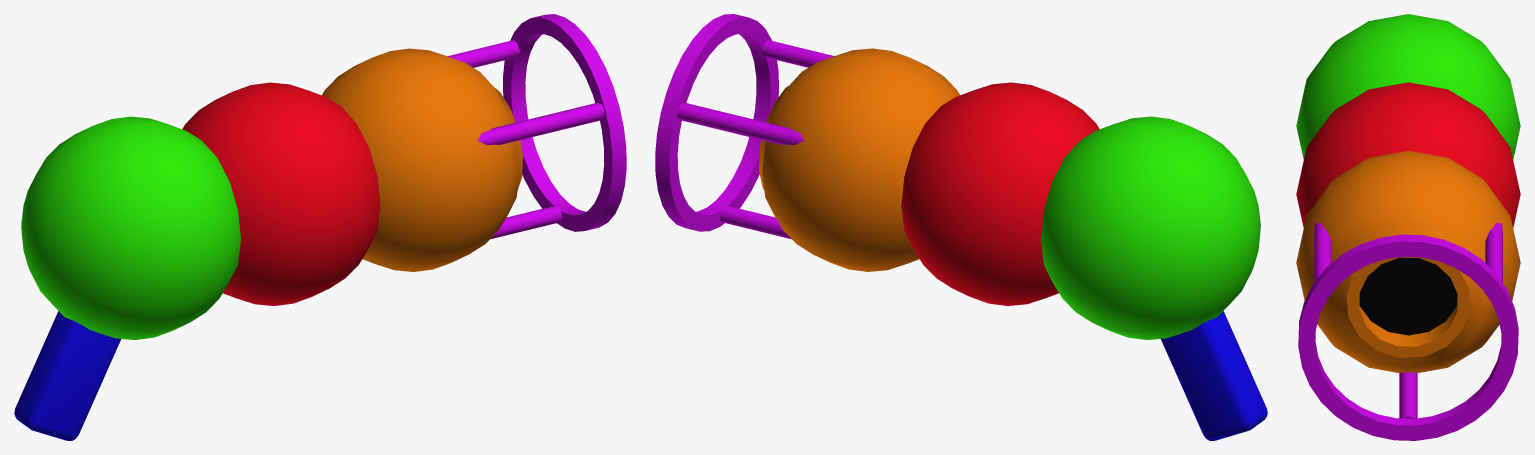
The model's file is bubble_gun.glb.
3 renders of one model, left to right at view 1: azimuth 30°, elevation 25°; view 2: azimuth 150°, elevation 25°; view 3: azimuth 270°, elevation 25°, orthographic.
Visible parts, largest first — view 1: BubbleGun; view 2: BubbleGun; view 3: BubbleGun.
Part boxes in pixels (bbox=[...]): BubbleGun: bbox=[14, 14, 626, 440]; BubbleGun: bbox=[655, 14, 1267, 440]; BubbleGun: bbox=[1296, 14, 1520, 440].
Bounding box in the file's own units: 0.5786 × 0.2935 × 0.2035.
